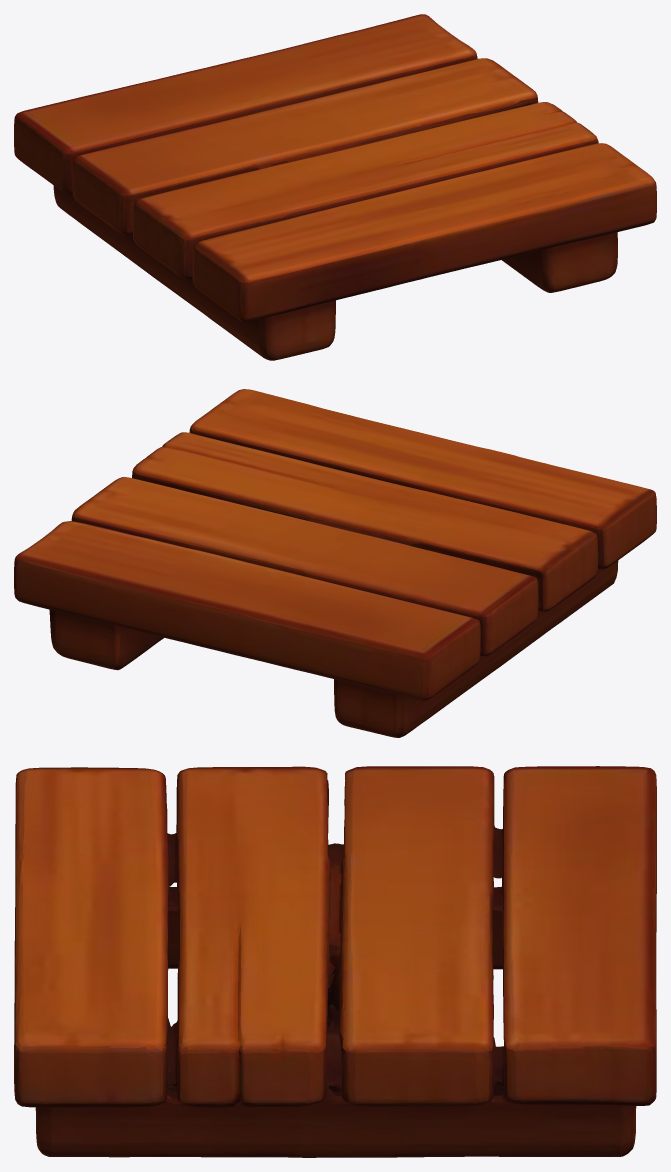
Rendered from wood_path.glb.
The picture shows the model from 3 angles, top to bottom: view 1: azimuth 30°, elevation 25°; view 2: azimuth 150°, elevation 25°; view 3: azimuth 270°, elevation 25°; orthographic projection. The views are drawn at different scales.
Parts seen in each view (by area): view 1: world; view 2: world; view 3: world.
Boxes of the visible parts, box(x1,y1,x2,y2) form: world: box(14, 14, 656, 360); world: box(14, 389, 656, 737); world: box(14, 766, 656, 1157).
Bounding box in the file's own units: 0.9958 × 0.2287 × 0.9526.
Materials: 1 (1 with a texture image).
